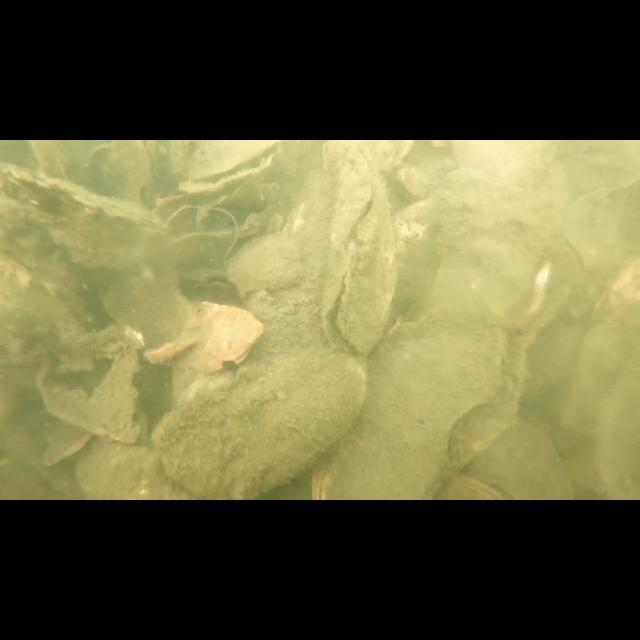Oyster-Closed: (311, 310, 523, 500), (152, 346, 366, 499), (424, 219, 584, 349), (0, 161, 166, 266), (225, 229, 342, 353), (463, 420, 575, 500), (147, 302, 265, 370), (0, 256, 88, 342), (177, 263, 235, 291)
Oyster-Open: (321, 148, 399, 354), (178, 140, 284, 197), (195, 177, 287, 239)
